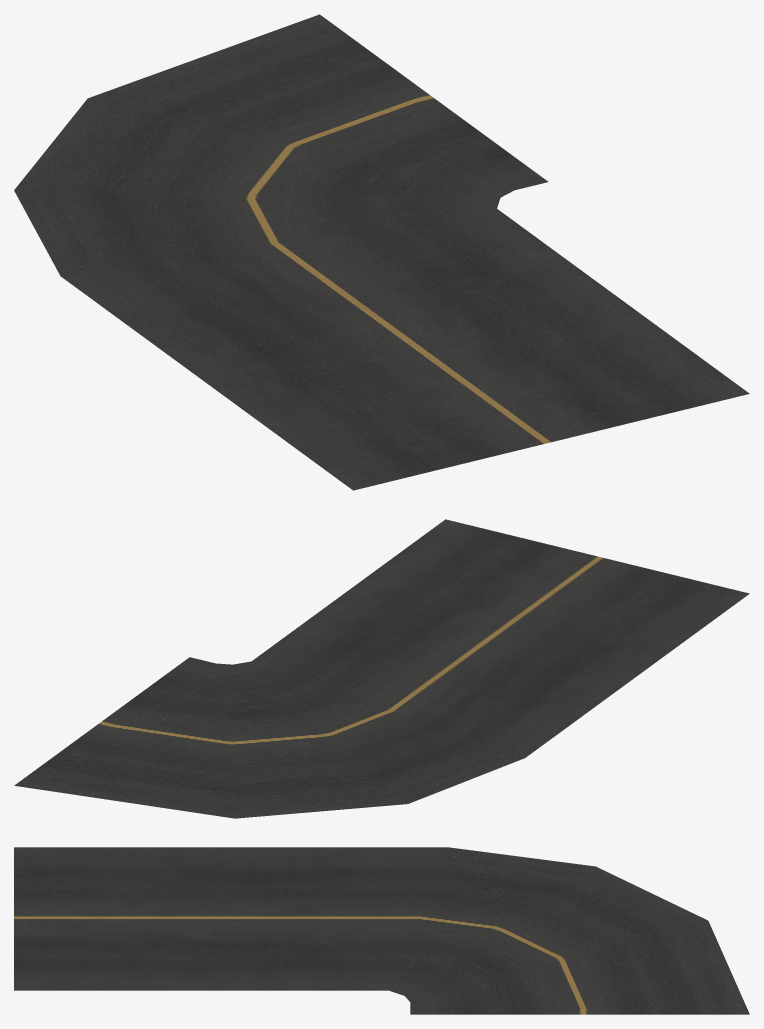
The model's file is Street_Curved_01.fbx.
3 renders of one model, top to bottom at view 1: azimuth 30°, elevation 25°; view 2: azimuth 150°, elevation 25°; view 3: azimuth 270°, elevation 25°, orthographic. The views are drawn at different scales.
Parts seen in each view (by area): view 1: Street_Straight.001; view 2: Street_Straight.001; view 3: Street_Straight.001.
Part boxes in pixels (x1=…): Street_Straight.001: x1=14, y1=14, x2=749, y2=490; Street_Straight.001: x1=14, y1=519, x2=749, y2=818; Street_Straight.001: x1=14, y1=847, x2=749, y2=1014.
Bounding box in the file's own units: 17.5 × 32.51 × 0.
